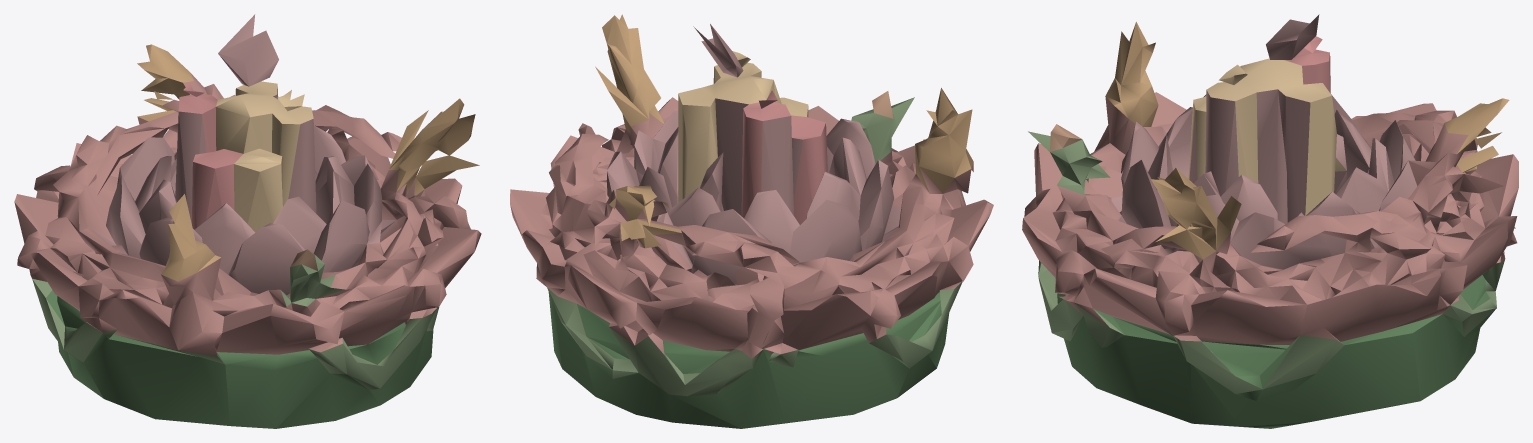
The model's file is naga_01.full.glb.
3 renders of one model, left to right at view 1: azimuth 30°, elevation 25°; view 2: azimuth 150°, elevation 25°; view 3: azimuth 270°, elevation 25°, orthographic. The views are drawn at different scales.
Size of the model in its own units: 2.14 by 1.72 by 2.15.
